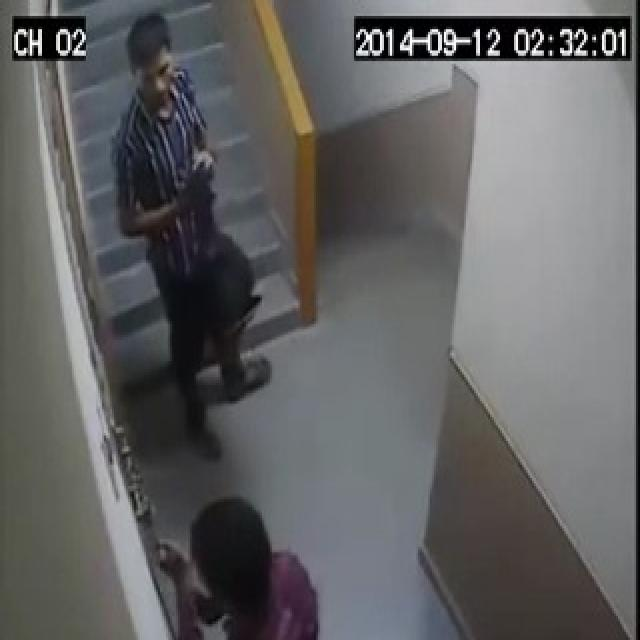thief: (103, 4, 270, 408), (137, 490, 326, 638)
